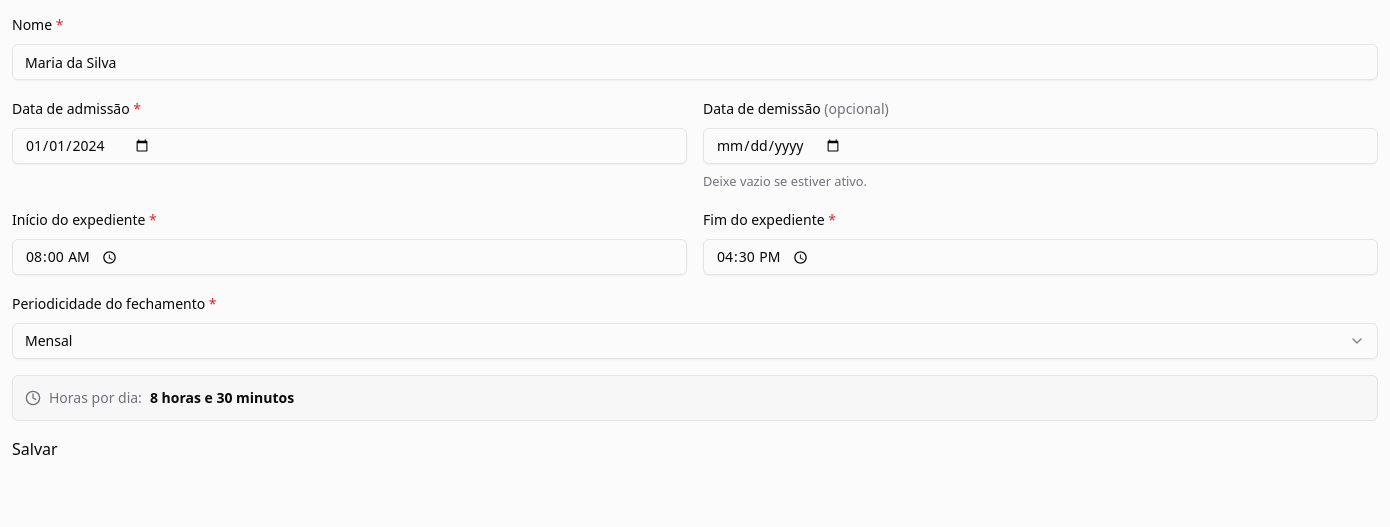
EmployeeForm › shows cross-field errors immediately, without submitting
Type "2023-12-31" into the date field labelled "Data de demissão (opcional)" at coordinates (1040, 146), box [703, 128, 1378, 164]
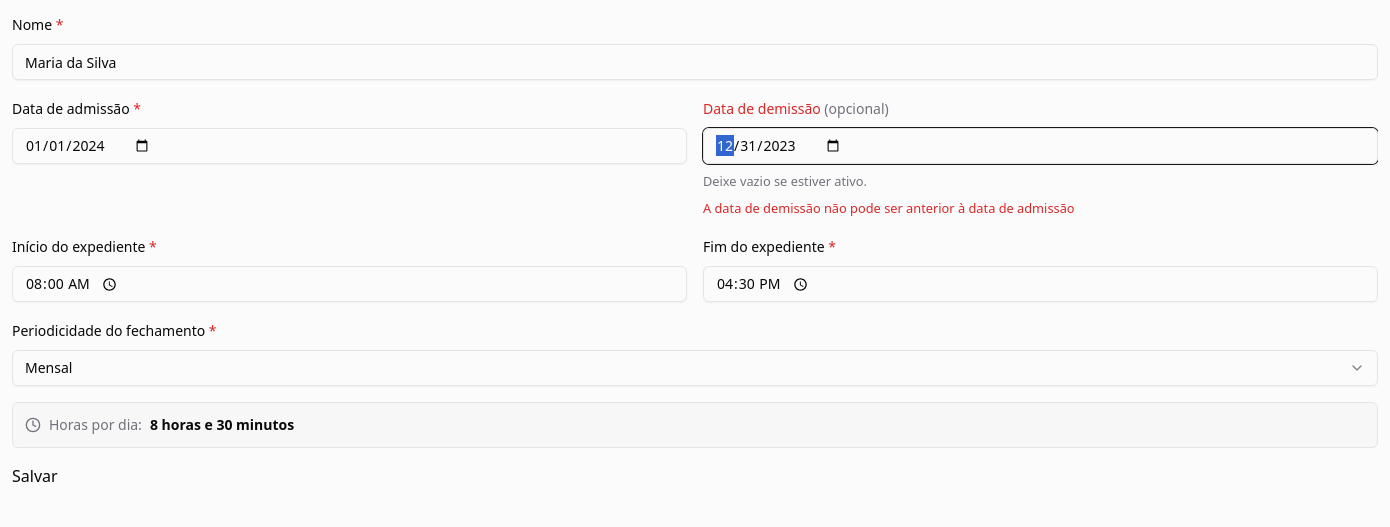
Result: the text "A data de demissão não pode ser anterior à data de admissão" is shown at [703, 199, 1075, 217]
Replace the text in the time field labelled "Fim do expediente *" with "07:00" at coordinates (1040, 284), box [703, 266, 1378, 302]
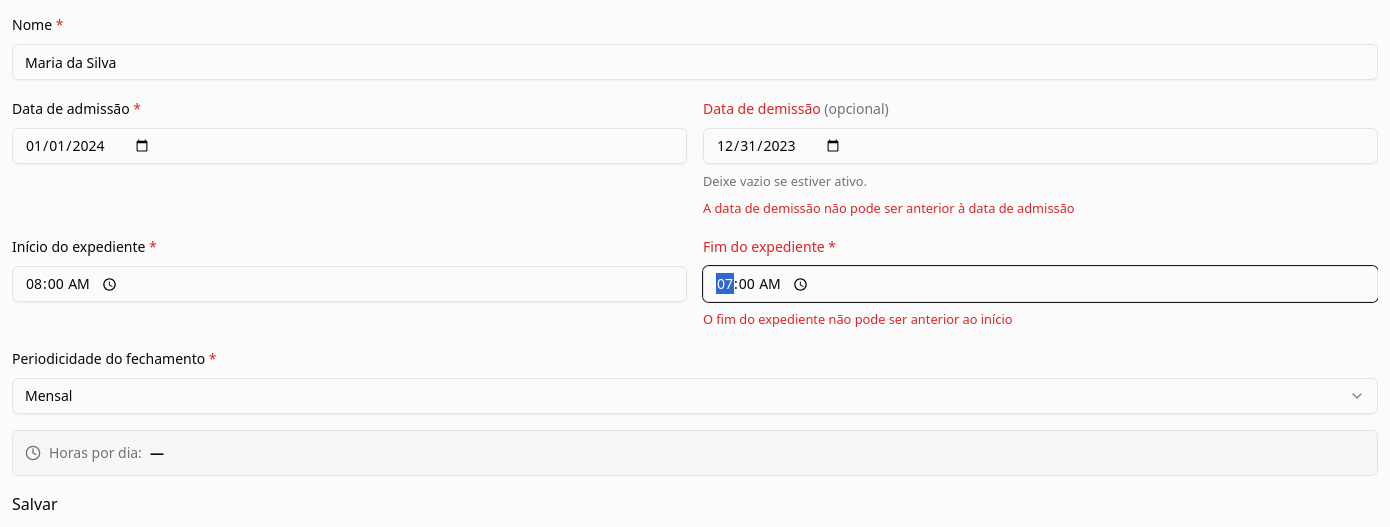
Result: the text "O fim do expediente não pode ser anterior ao início" is shown at [703, 310, 1012, 328]
